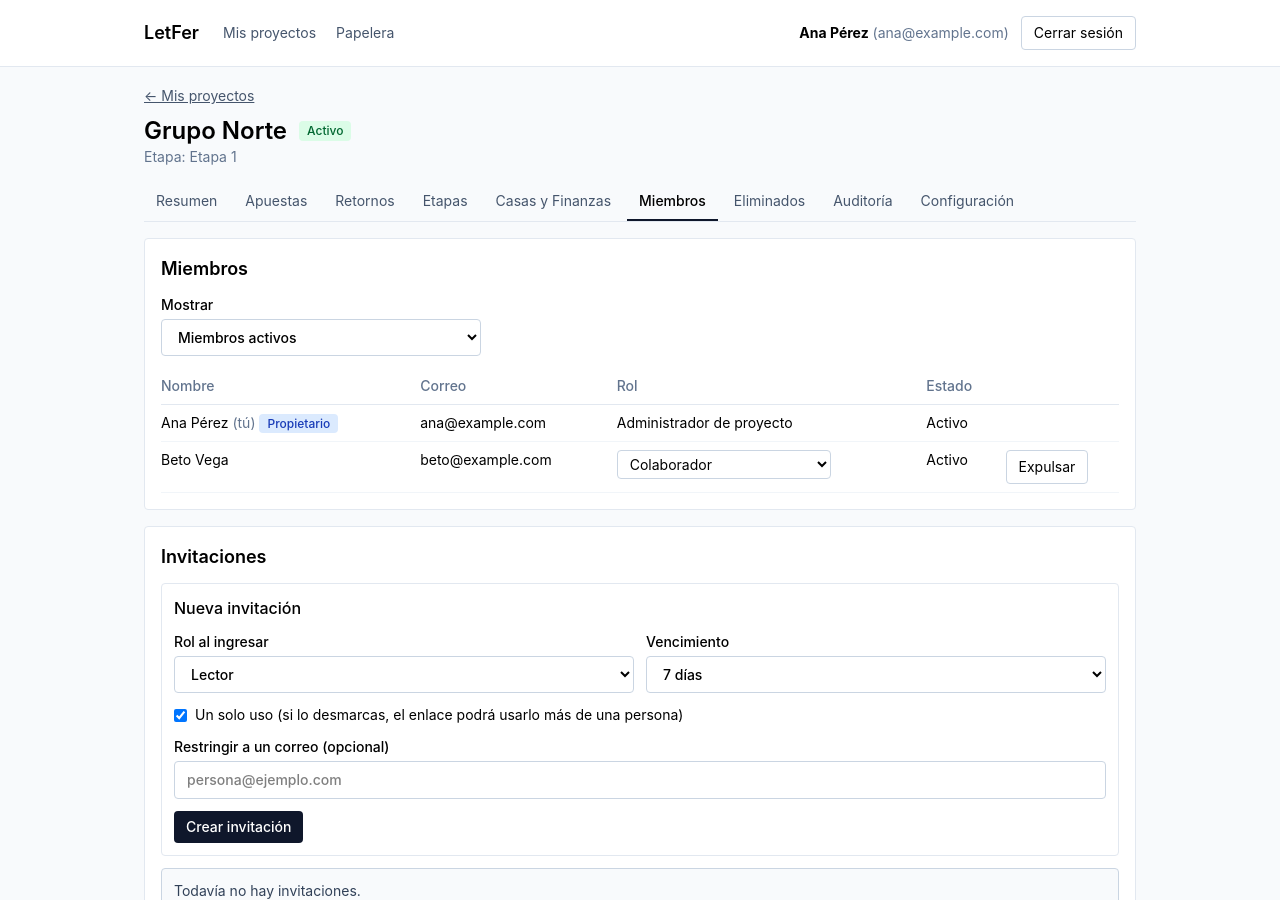
Scenario: miembros › cambio de rol › un conflicto de versión muestra el aviso y recarga la lista real
Select "Administrador de proyecto" in the dropdown named "Rol de Beto Vega" at (724, 464), box x1=617 y1=450 x2=831 y2=479
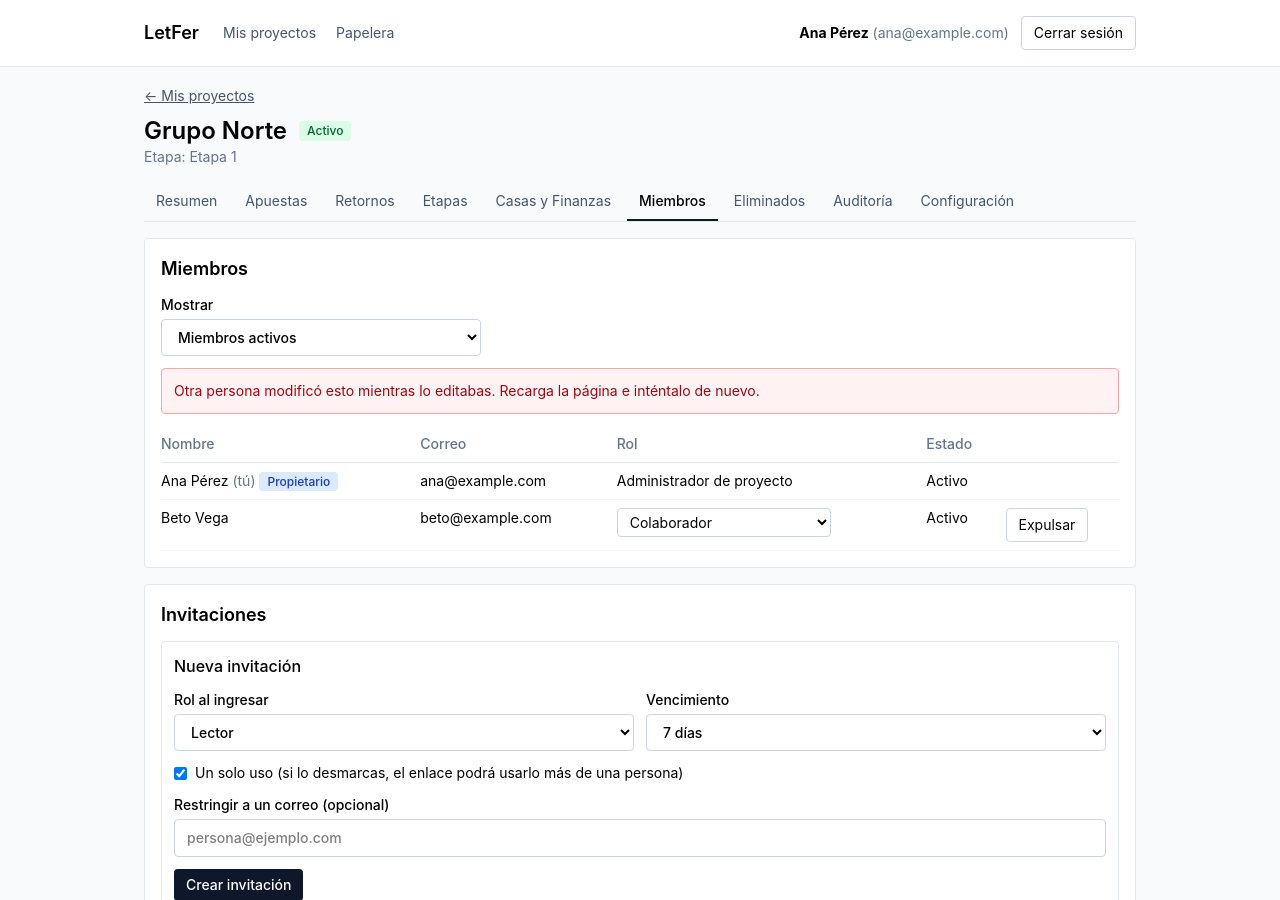
Expected: the message shows "Otra persona modificó", x1=174 y1=382 x2=760 y2=399
